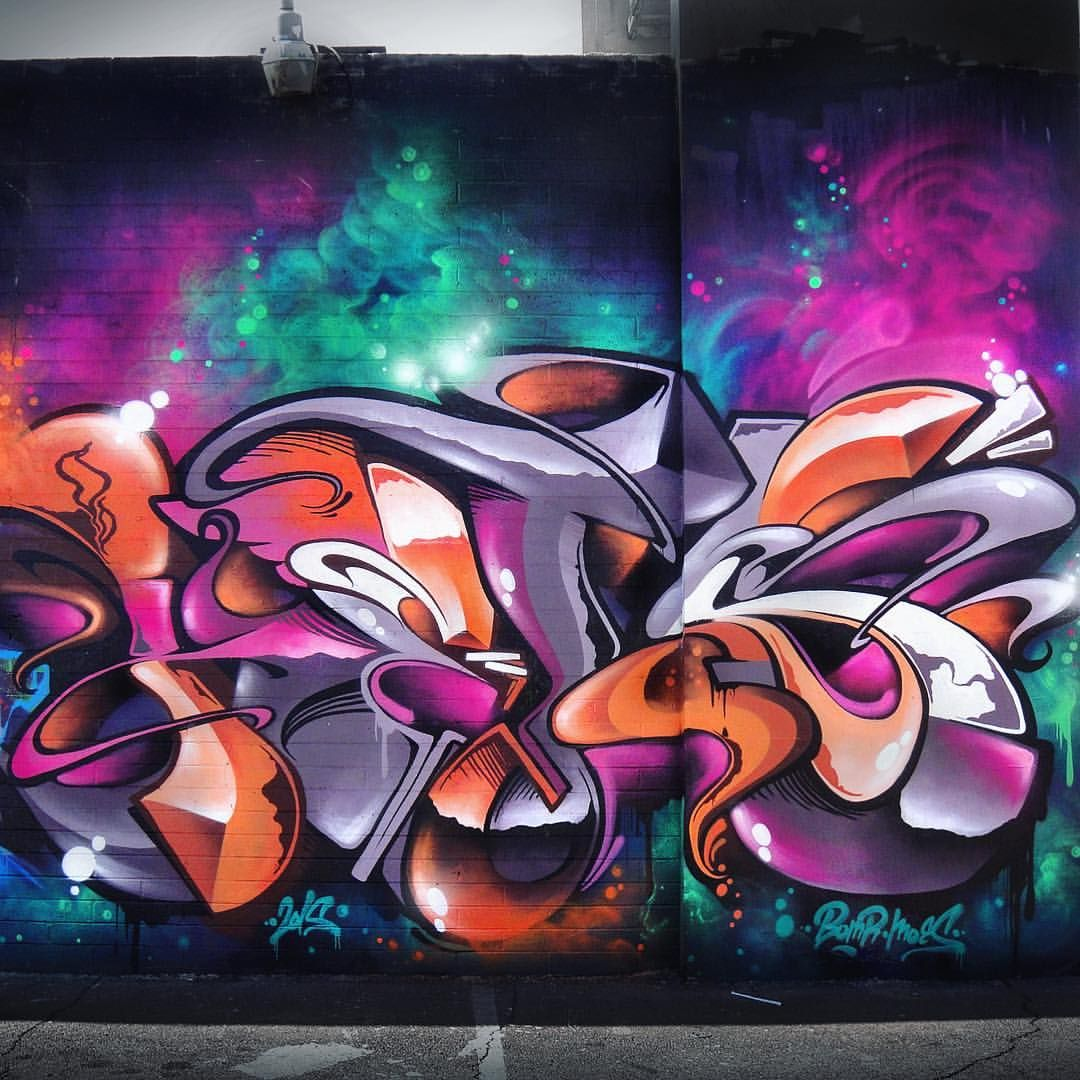graphite: (8, 183, 1080, 1011), (813, 905, 990, 970), (269, 895, 369, 970)
